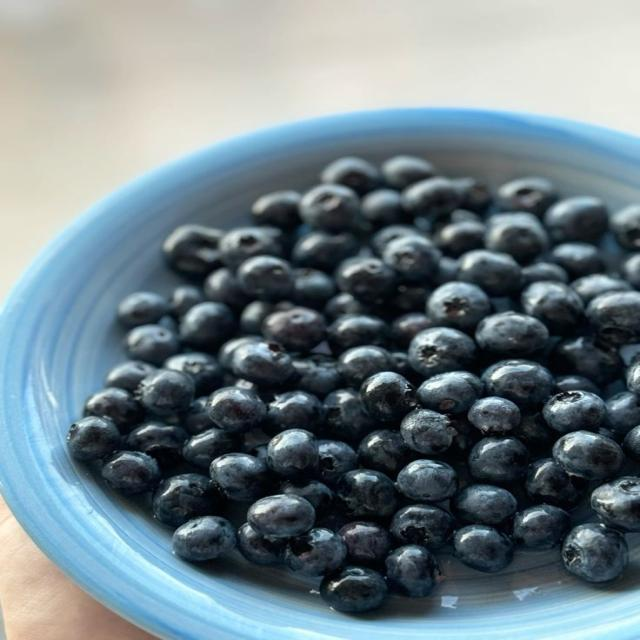blueberry: (562, 523, 627, 582), (153, 474, 219, 527), (553, 430, 624, 479), (482, 359, 553, 407), (408, 327, 476, 377), (553, 336, 622, 385), (521, 281, 584, 334), (475, 312, 549, 357), (163, 225, 222, 279), (427, 282, 491, 331), (485, 213, 549, 262), (320, 567, 388, 613), (335, 470, 397, 518), (390, 504, 454, 550), (544, 196, 608, 242), (285, 528, 346, 576), (458, 250, 521, 296), (210, 453, 270, 501), (468, 437, 529, 484), (586, 291, 639, 345), (247, 495, 315, 537), (173, 516, 236, 561), (454, 524, 513, 572), (262, 307, 326, 351), (386, 545, 440, 597), (525, 458, 581, 508), (300, 184, 359, 231), (207, 387, 266, 434), (335, 257, 396, 302), (360, 372, 416, 421), (417, 371, 482, 413), (125, 423, 187, 467), (262, 391, 324, 435), (323, 389, 375, 441), (232, 342, 293, 386), (292, 231, 359, 271), (543, 391, 606, 433), (219, 226, 282, 268), (451, 485, 517, 525), (180, 302, 235, 350), (383, 236, 441, 281), (137, 370, 195, 415), (164, 352, 223, 396), (591, 477, 639, 531), (397, 460, 458, 502), (102, 451, 160, 495), (84, 388, 144, 430), (400, 409, 456, 454), (267, 429, 319, 477), (358, 430, 412, 476), (182, 427, 241, 469), (237, 256, 293, 300), (513, 505, 570, 548), (327, 314, 389, 353), (496, 177, 557, 216), (338, 346, 394, 388), (402, 177, 460, 217), (320, 157, 382, 194), (339, 521, 392, 564), (67, 416, 119, 459), (125, 325, 180, 365), (238, 523, 286, 566), (381, 155, 438, 190), (204, 268, 250, 311), (468, 397, 520, 435), (293, 355, 340, 397), (280, 480, 333, 517), (550, 243, 604, 279), (434, 220, 486, 257), (291, 267, 336, 309), (510, 413, 557, 453), (252, 190, 300, 229), (572, 274, 632, 305), (318, 440, 358, 486), (361, 189, 408, 228), (118, 291, 168, 327), (446, 414, 481, 462), (370, 224, 424, 255), (105, 361, 157, 392), (218, 334, 262, 370), (379, 282, 430, 313), (323, 292, 374, 320), (610, 204, 640, 250), (453, 177, 491, 213), (427, 207, 483, 231), (179, 397, 213, 435), (240, 301, 278, 334), (522, 262, 569, 287), (169, 286, 205, 318), (554, 375, 599, 394), (434, 256, 459, 285), (621, 253, 639, 289), (390, 351, 414, 378), (623, 425, 639, 462), (626, 361, 639, 395), (158, 315, 179, 334), (248, 443, 267, 463)
